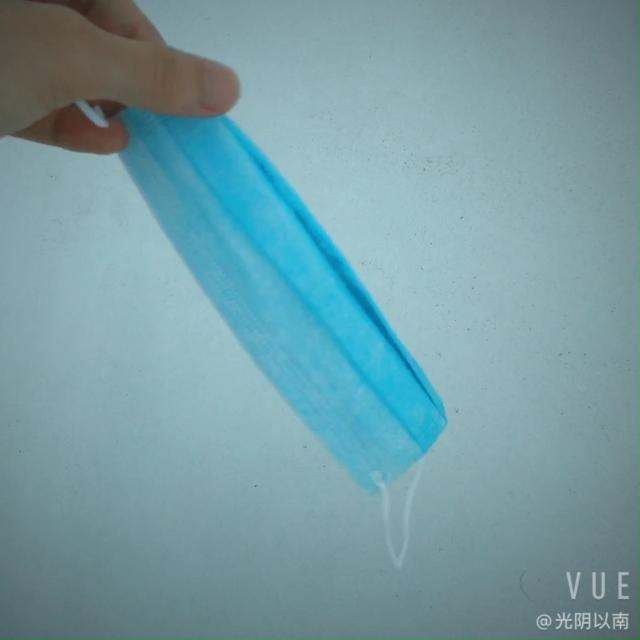face mask: (62, 58, 475, 500)
